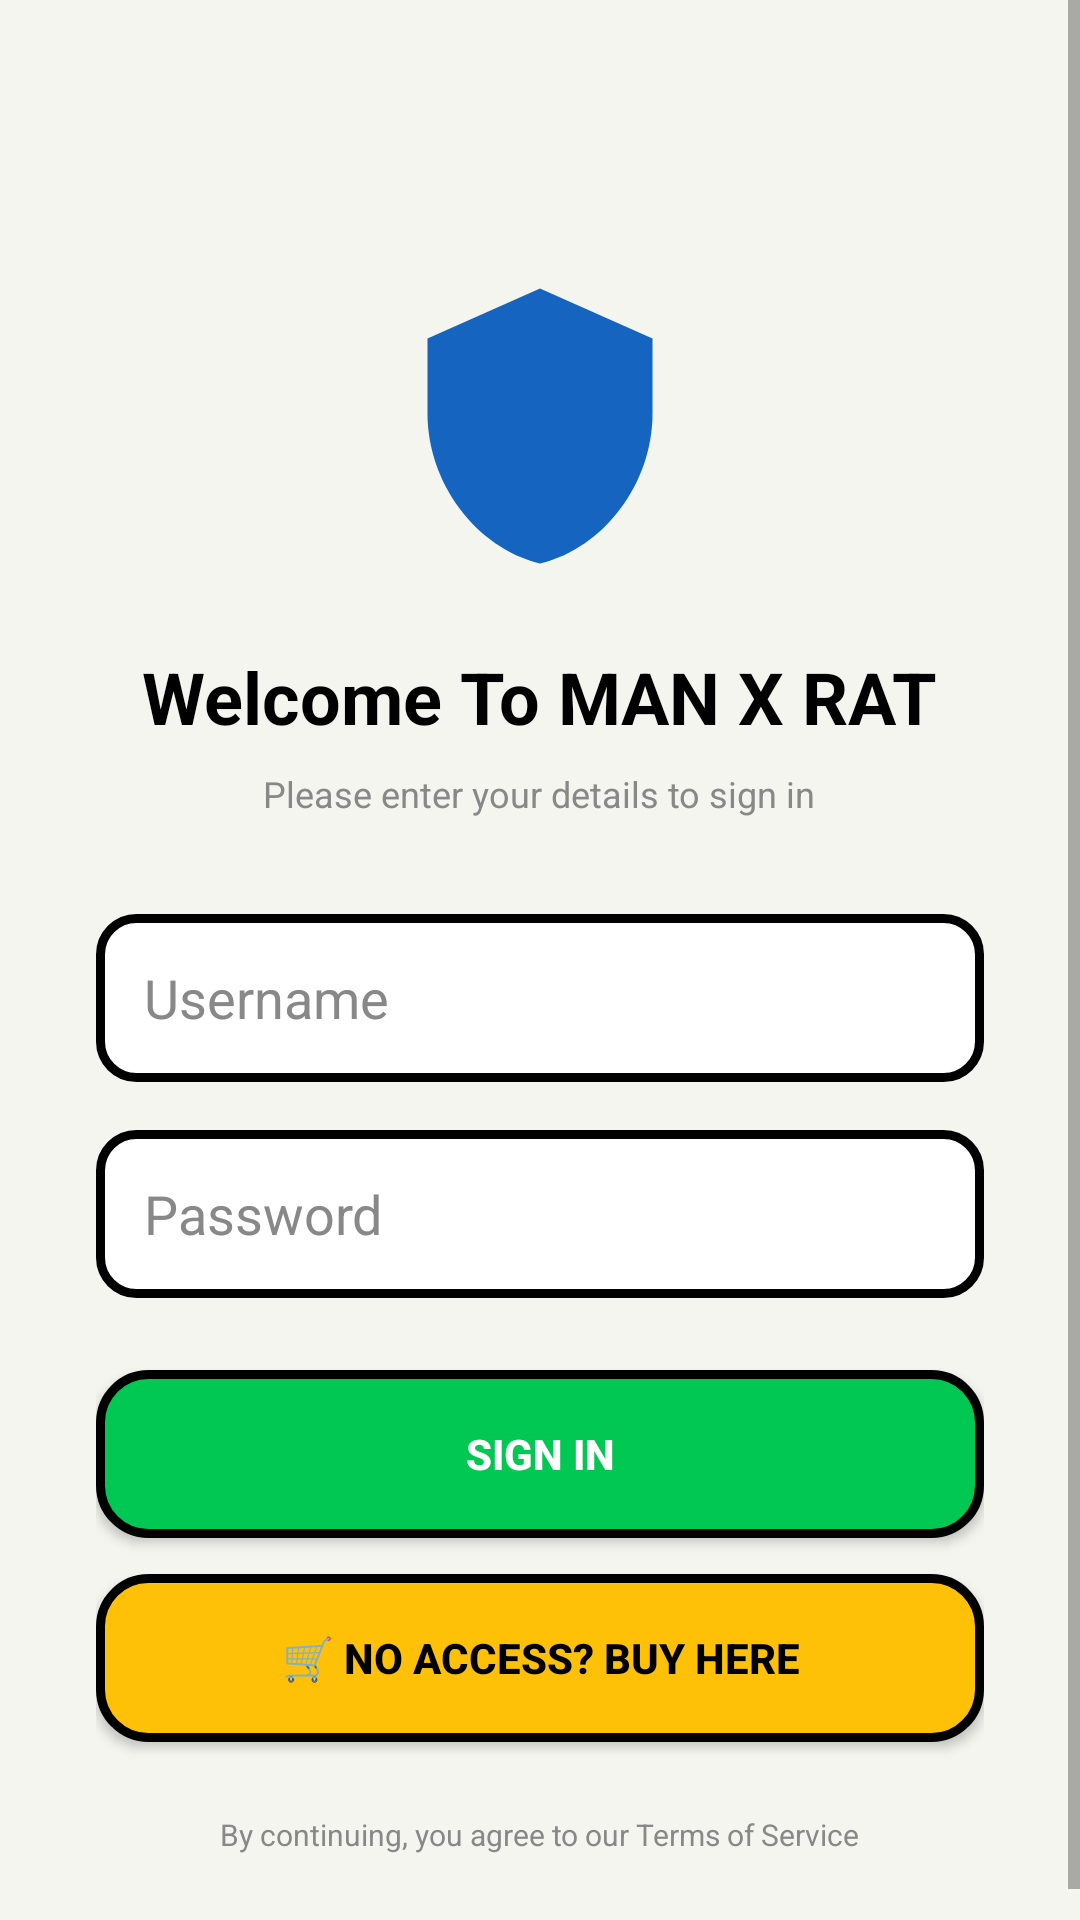

Icon click points for this 1080*1920 phone screenshot, format (x,y):
shield: (540,426)
